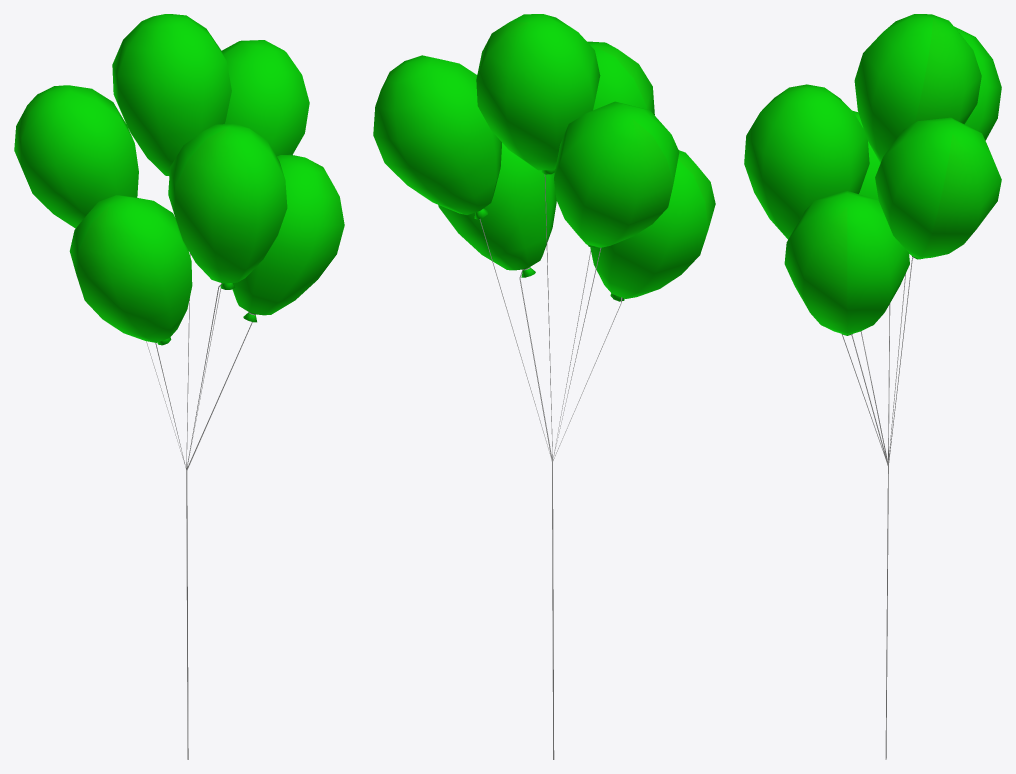
File: BalloonBunchGreen.glb
3 renders of one model, left to right at view 1: azimuth 30°, elevation 25°; view 2: azimuth 150°, elevation 25°; view 3: azimuth 270°, elevation 25°, orthographic. The views are drawn at different scales.
Visible parts, largest first — view 1: BalloonBunchGreen; view 2: BalloonBunchGreen; view 3: BalloonBunchGreen.
Boxes of the visible parts, <box> form: BalloonBunchGreen: <box>14,14,344,759</box>; BalloonBunchGreen: <box>373,14,715,759</box>; BalloonBunchGreen: <box>744,14,1001,759</box>.
Bounding box in the file's own units: 1.32 × 3.26 × 1.03.
Materials: 1 (1 with a texture image).
